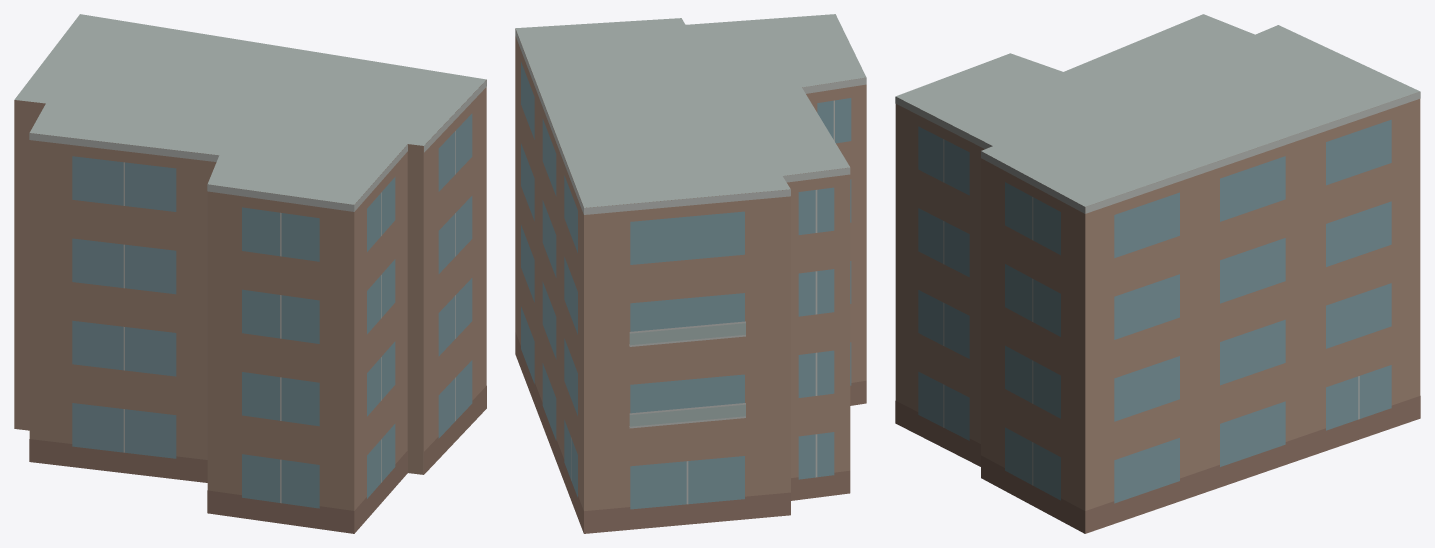
The model's file is survey-upis-32917344.glb.
3 renders of one model, left to right at view 1: azimuth 30°, elevation 25°; view 2: azimuth 150°, elevation 25°; view 3: azimuth 270°, elevation 25°, orthographic.
Parts seen in each view (by area): view 1: survey-upis-32917344.tmp; view 2: survey-upis-32917344.tmp; view 3: survey-upis-32917344.tmp.
Boxes of the visible parts, bbox=[...] form: survey-upis-32917344.tmp: bbox=[14, 14, 486, 533]; survey-upis-32917344.tmp: bbox=[515, 14, 866, 533]; survey-upis-32917344.tmp: bbox=[895, 14, 1420, 533].
Bounding box in the file's own units: 14.24 × 11.25 × 16.38.
